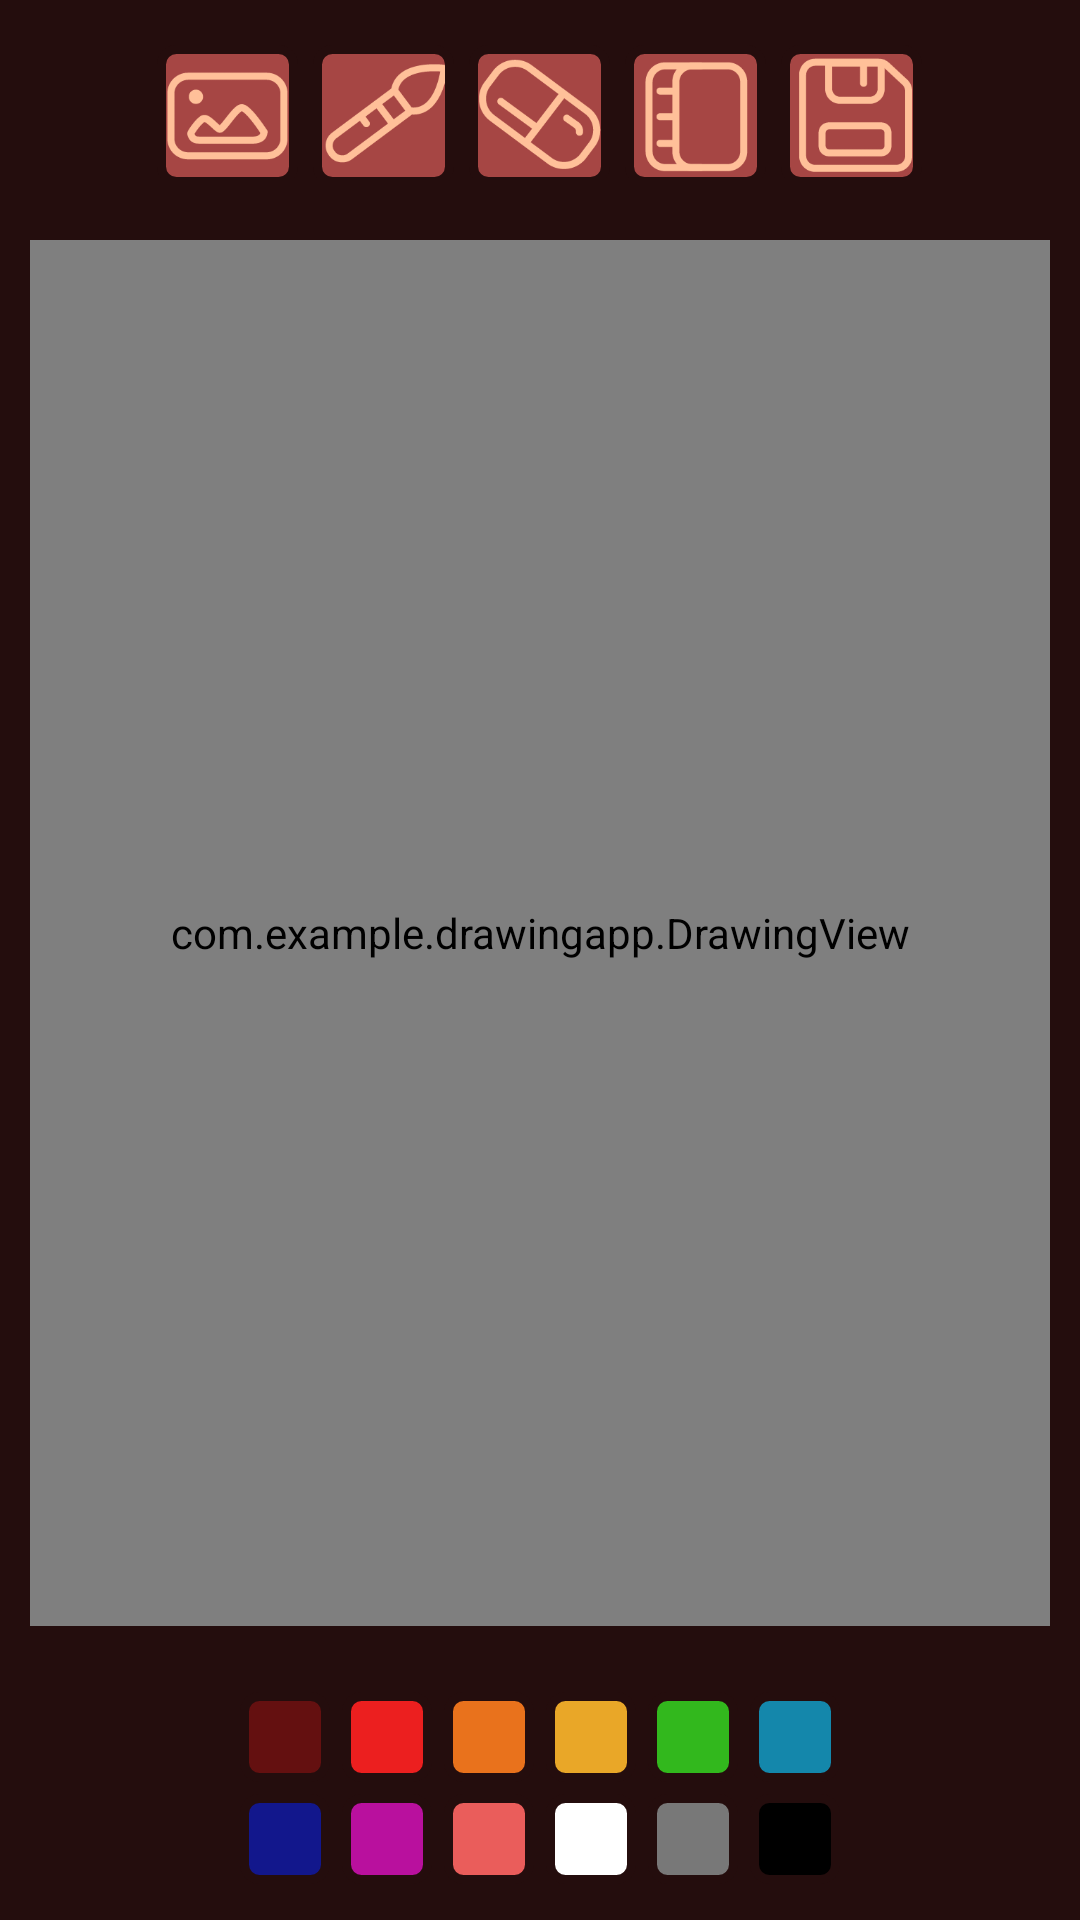

Icons on this 1080 x 1920 Android screen, each with the point to tap as (x=x, y=y):
Brush: (x=383, y=115)
Erase: (x=539, y=115)
Save: (x=851, y=115)
